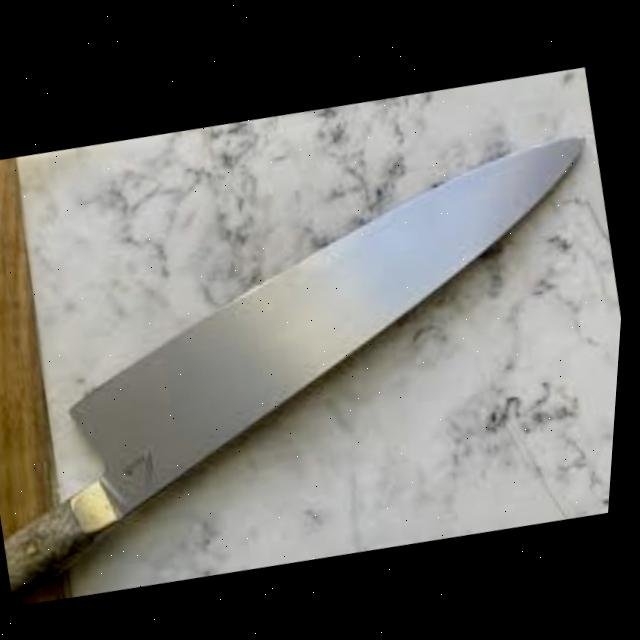Knife: (0, 99, 635, 618)
